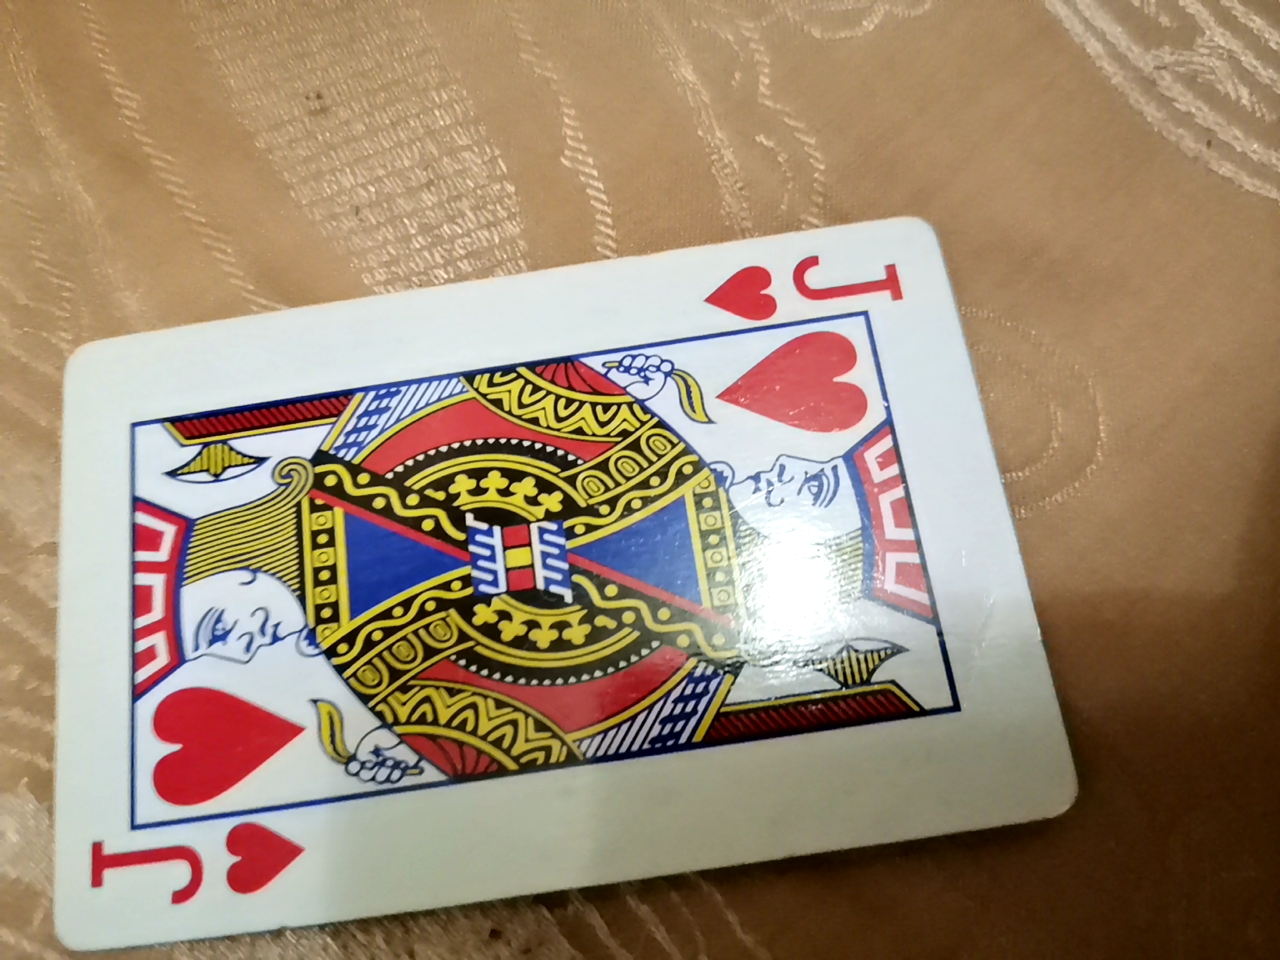hx j: (103, 196, 1086, 933)
